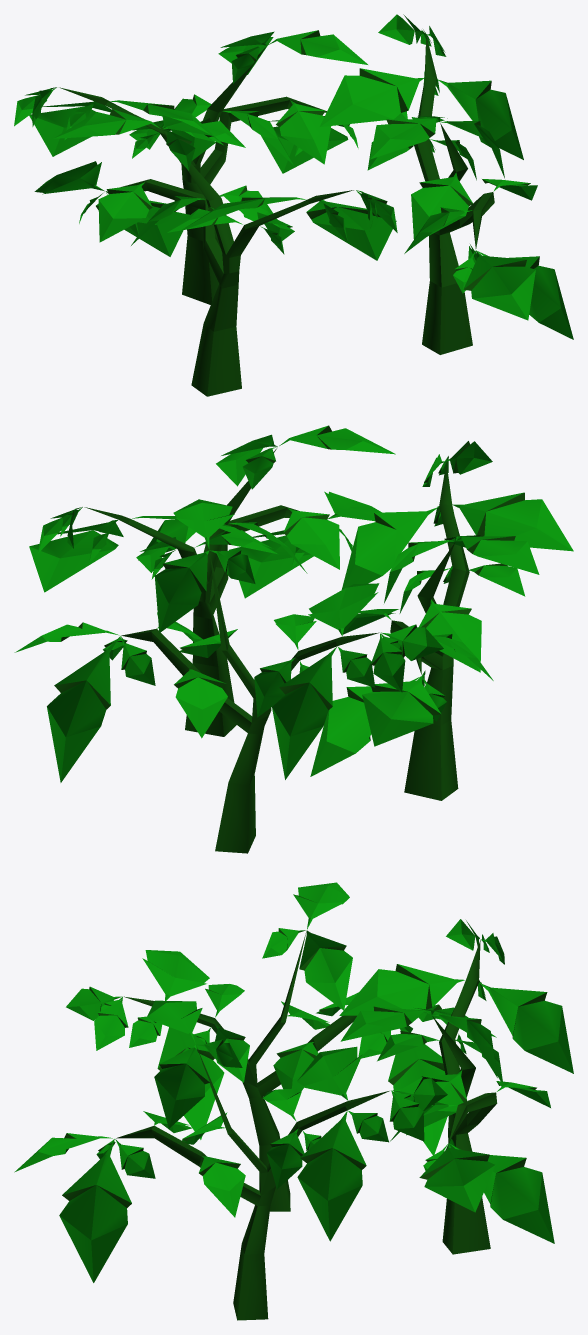
The model's file is tomato_1.glb.
3 renders of one model, top to bottom at view 1: azimuth 30°, elevation 25°; view 2: azimuth 150°, elevation 25°; view 3: azimuth 270°, elevation 25°, orthographic. The views are drawn at different scales.
Parts seen in each view (by area): view 1: tomato_1; view 2: tomato_1; view 3: tomato_1.
Part boxes in pixels (x1,y1,x2,y2): tomato_1: [14, 14, 573, 396]; tomato_1: [14, 425, 573, 853]; tomato_1: [14, 882, 573, 1320].
Bounding box in the file's own units: 2.64 × 1.47 × 2.76.
